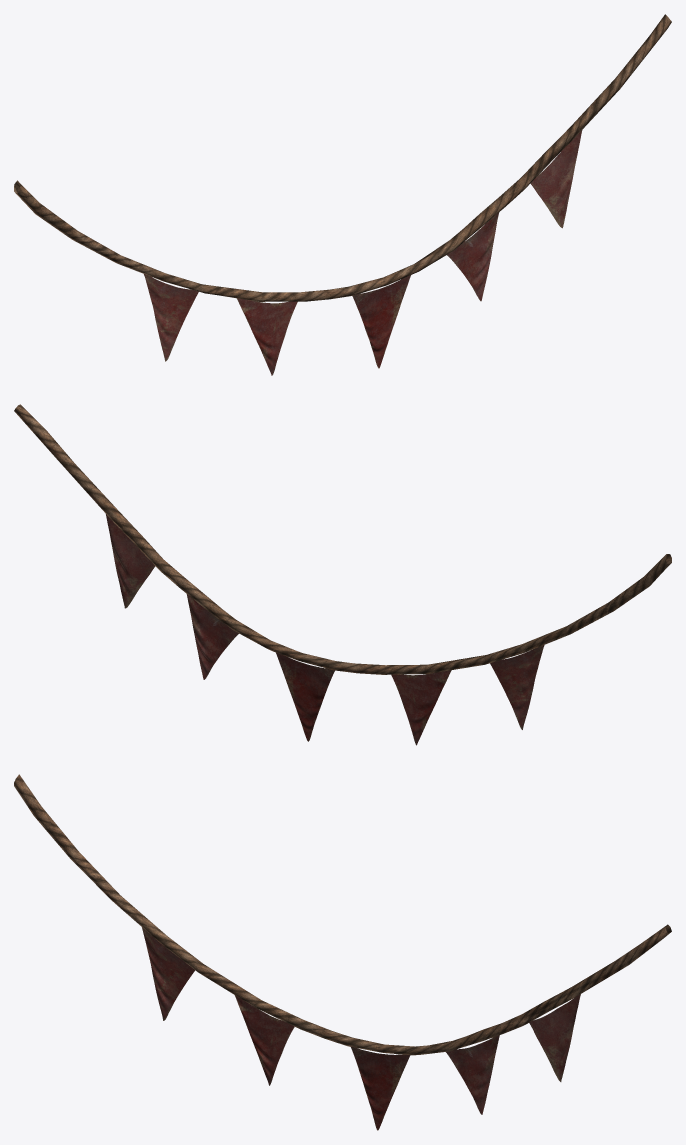
File: SM_RopeWithFlags_B.fbx
3 renders of one model, top to bottom at view 1: azimuth 30°, elevation 25°; view 2: azimuth 150°, elevation 25°; view 3: azimuth 330°, elevation 25°, orthographic. The views are drawn at different scales.
Parts seen in each view (by area): view 1: SM_RopeWithFlags_B; view 2: SM_RopeWithFlags_B; view 3: SM_RopeWithFlags_B.
Part boxes in pixels (x1,y1,x2,y2): SM_RopeWithFlags_B: (14, 14, 671, 375); SM_RopeWithFlags_B: (14, 404, 671, 745); SM_RopeWithFlags_B: (14, 774, 671, 1130).
Size of the model in its own units: 325 by 11.97 by 131.
